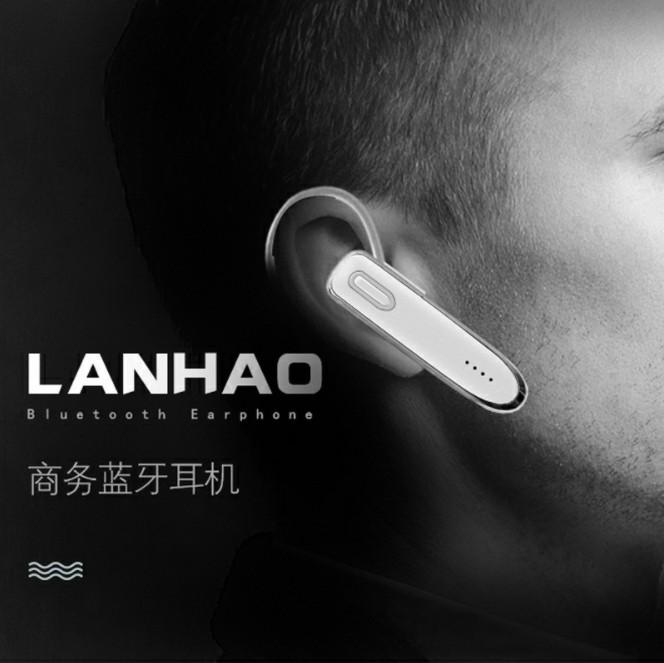earphone: (255, 177, 531, 423)
